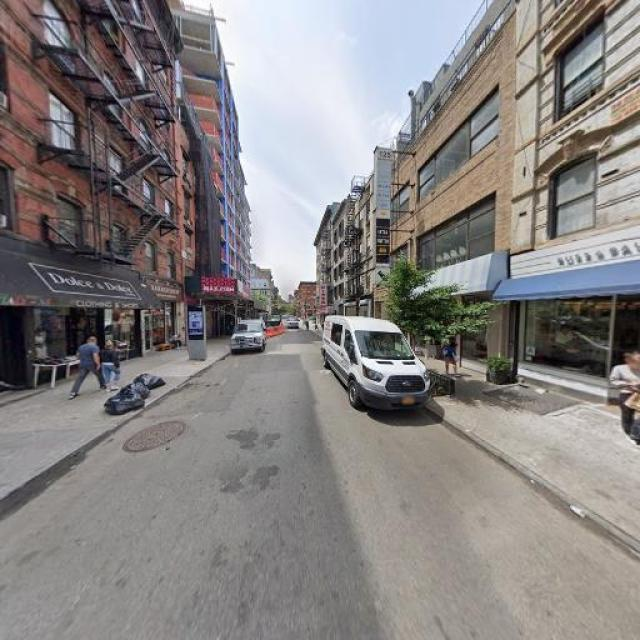Building: (1, 1, 172, 402), (517, 1, 640, 427), (377, 15, 512, 388)
